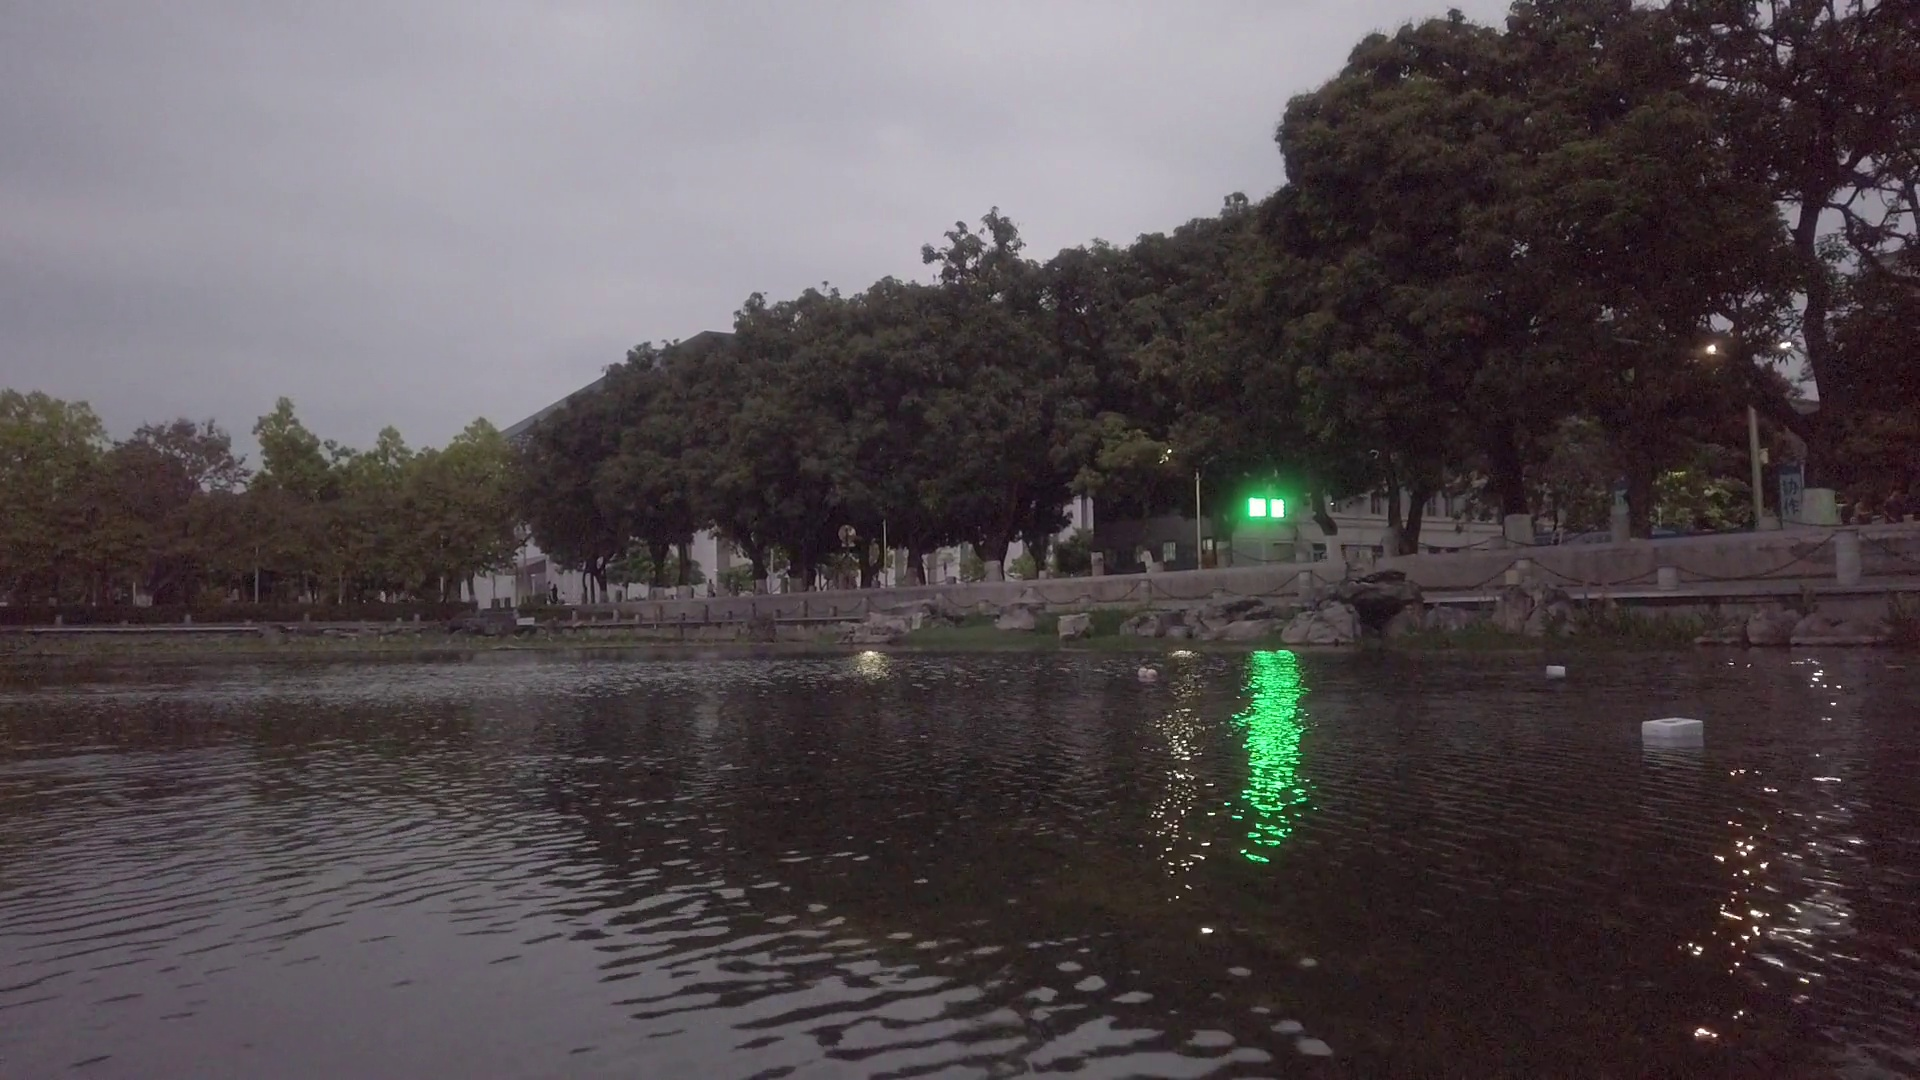bottle: (1138, 667, 1160, 682)
carton: (1642, 713, 1705, 741), (1545, 665, 1567, 676)
